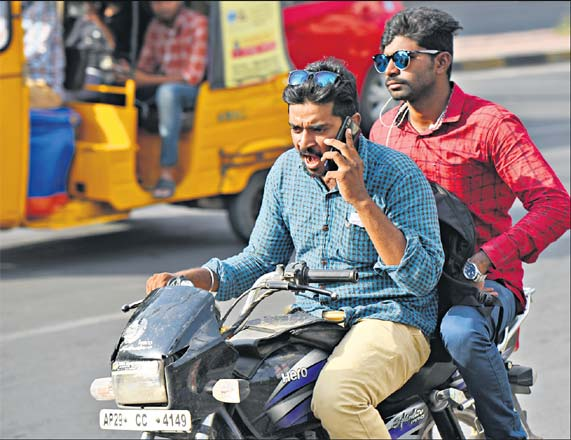dieu khien xe may: (106, 59, 381, 436)
su dung dien thoai: (280, 62, 372, 196)
